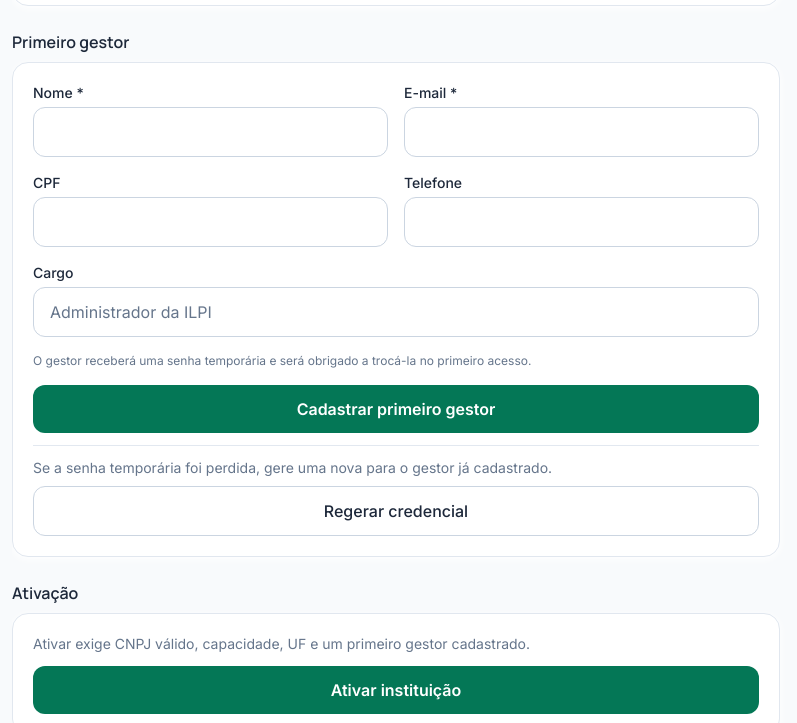
Scenario: Central — ativação e inativação › 17. ativa a instituição
The width and height of the screenshot is (797, 723).
(page scrolled)
Step 1. Click the button "Ativar instituição" → (396, 690), box [33,666,759,714]
(page scrolled)
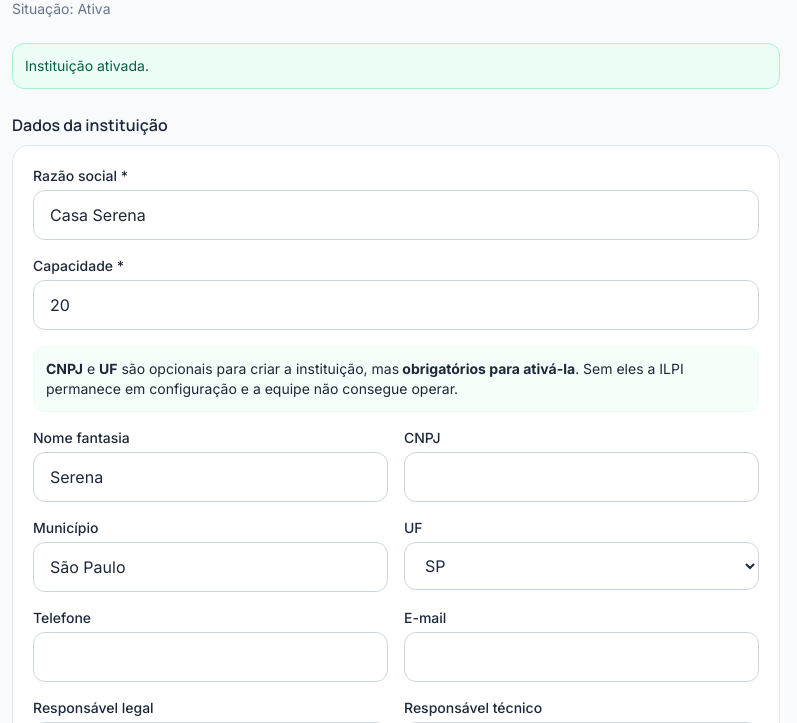
Expected: the message shows "ativada", [25,57,149,74]
